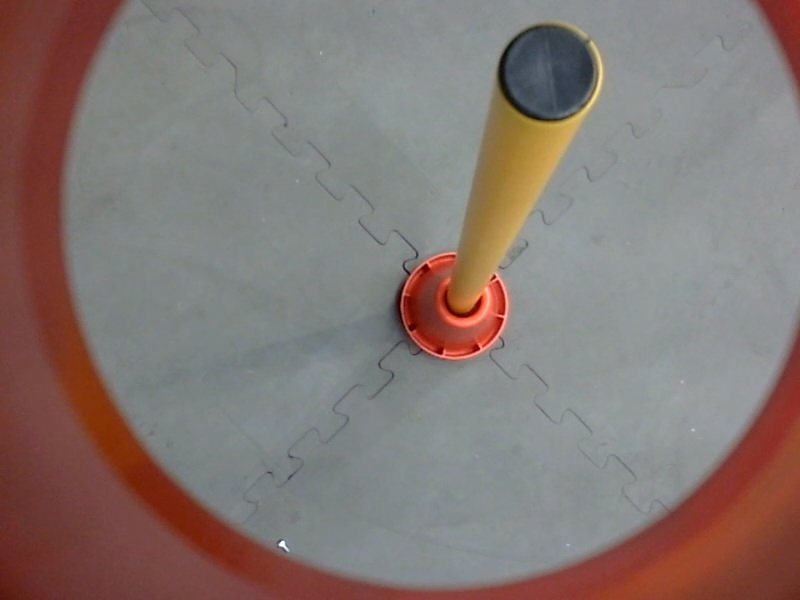tip: (490, 13, 612, 131)
